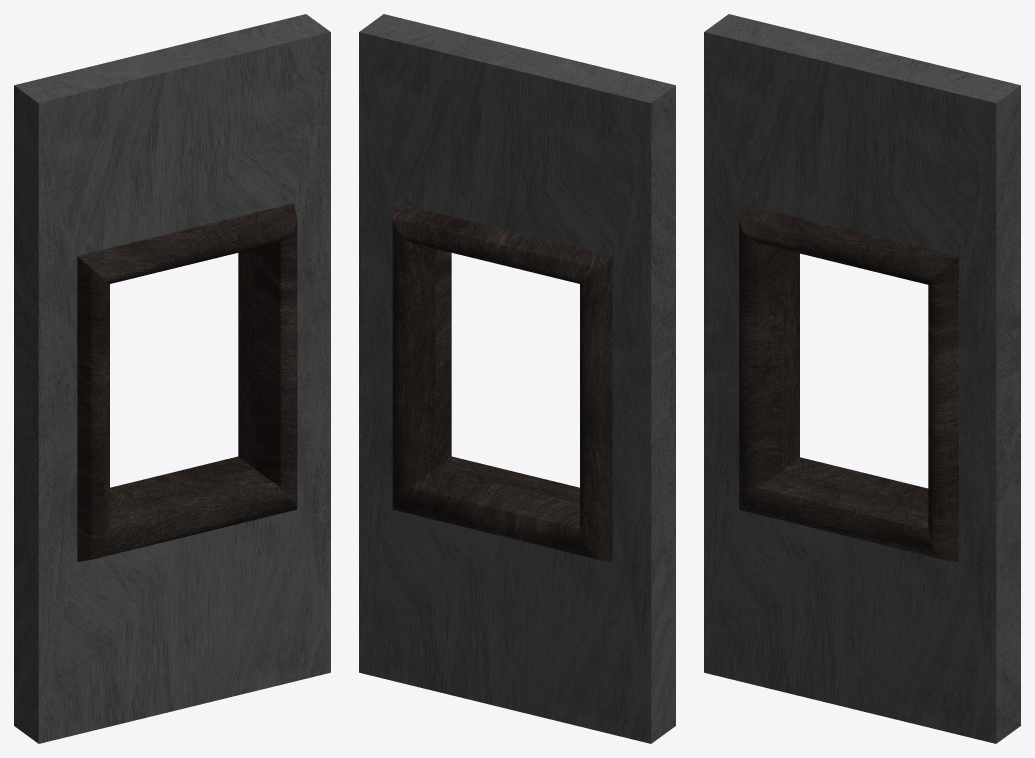
Rendered from Window S.fbx.
3 renders of one model, left to right at view 1: azimuth 30°, elevation 25°; view 2: azimuth 150°, elevation 25°; view 3: azimuth 330°, elevation 25°, orthographic.
Visible parts, largest first — view 1: S_Window; view 2: S_Window; view 3: S_Window.
Part boxes in pixels (<box>): S_Window: <box>14,14,330,743</box>; S_Window: <box>359,14,675,743</box>; S_Window: <box>704,14,1020,743</box>.
Bounding box in the file's own units: 143 × 300 × 42.
